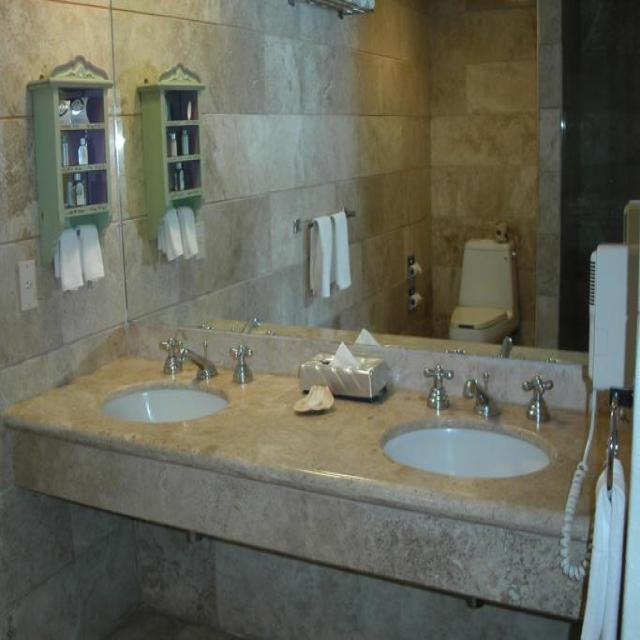cupboard: (26, 54, 116, 268), (135, 66, 205, 240)
faucet: (177, 342, 217, 380), (497, 335, 512, 357)
indoor-plant: (2, 1, 637, 636)
window: (110, 0, 637, 366)
